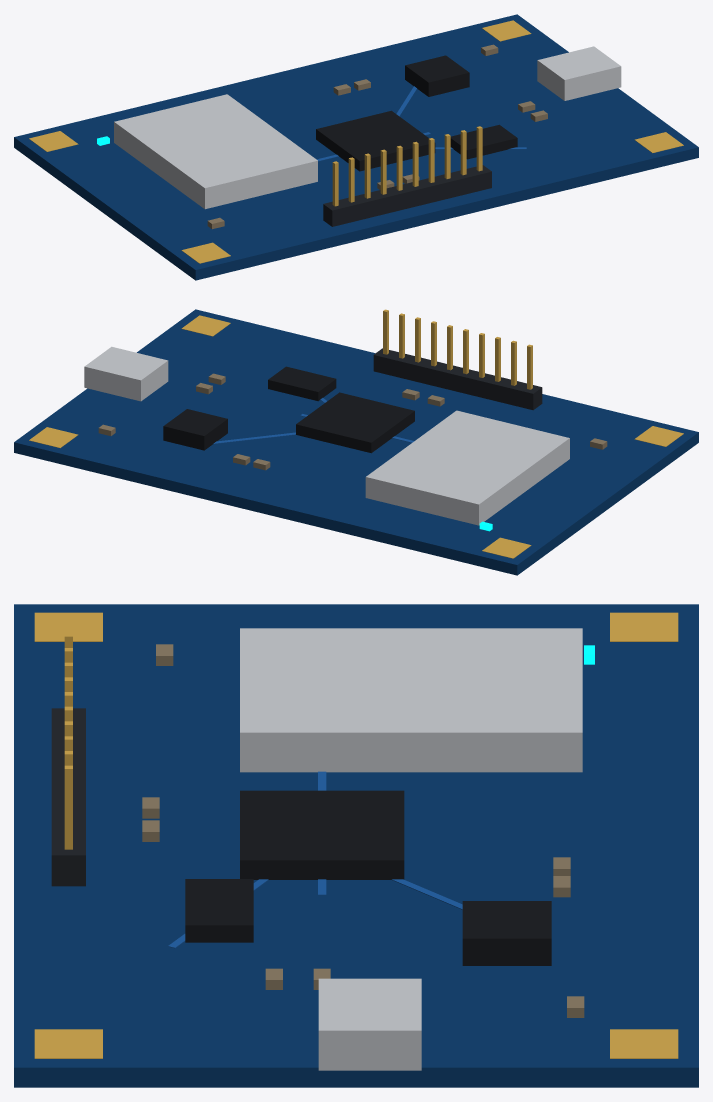
Rendered from placa-placeholder.glb.
3 renders of one model, top to bottom at view 1: azimuth 30°, elevation 25°; view 2: azimuth 150°, elevation 25°; view 3: azimuth 270°, elevation 25°, orthographic. The views are drawn at different scales.
Parts seen in each view (by area): view 1: substrato, modulo-rf, microcontrolador, barra-pinos-base, usb, regulador, driver, pad--1-1, pad-1-1, pad--1--1, pad-1--1; view 2: substrato, modulo-rf, microcontrolador, barra-pinos-base, usb, regulador, driver, pad--1--1, pad-1--1, pad--1-1, pad-1-1; view 3: substrato, modulo-rf, microcontrolador, usb, regulador, barra-pinos-base, driver, pad-1--1, pad-1-1, pad--1--1, pad--1-1, pino-9.
Part boxes in pixels (x1,y1,x2,y2): substrato: (14, 14, 698, 280); modulo-rf: (114, 94, 317, 209); microcontrolador: (316, 110, 435, 171); barra-pinos-base: (323, 165, 491, 226); usb: (537, 46, 621, 100); regulador: (405, 55, 469, 96); driver: (450, 124, 517, 159); pad--1-1: (181, 242, 230, 263); pad-1-1: (634, 132, 683, 153); pad--1--1: (29, 131, 78, 151); pad-1--1: (482, 20, 531, 41); substrato: (14, 309, 698, 575); modulo-rf: (365, 410, 569, 525); microcontrolador: (296, 392, 414, 453); barra-pinos-base: (373, 348, 542, 410); usb: (84, 346, 168, 401); regulador: (163, 409, 227, 450); driver: (268, 366, 336, 401); pad--1--1: (482, 537, 531, 558); pad-1--1: (29, 427, 78, 448); pad--1-1: (634, 426, 683, 446); pad-1-1: (181, 315, 230, 336); substrato: (14, 604, 698, 1087); modulo-rf: (240, 628, 582, 772); microcontrolador: (240, 790, 404, 879); usb: (318, 978, 421, 1070); regulador: (462, 901, 551, 965); barra-pinos-base: (51, 708, 85, 886); driver: (185, 879, 253, 942); pad-1--1: (610, 1029, 678, 1058); pad-1-1: (34, 1029, 102, 1058); pad--1--1: (610, 612, 678, 641); pad--1-1: (34, 612, 102, 641); pino-9: (64, 765, 72, 849).
Size of the model in its own units: 0.0805 by 0.0106 by 0.05.
